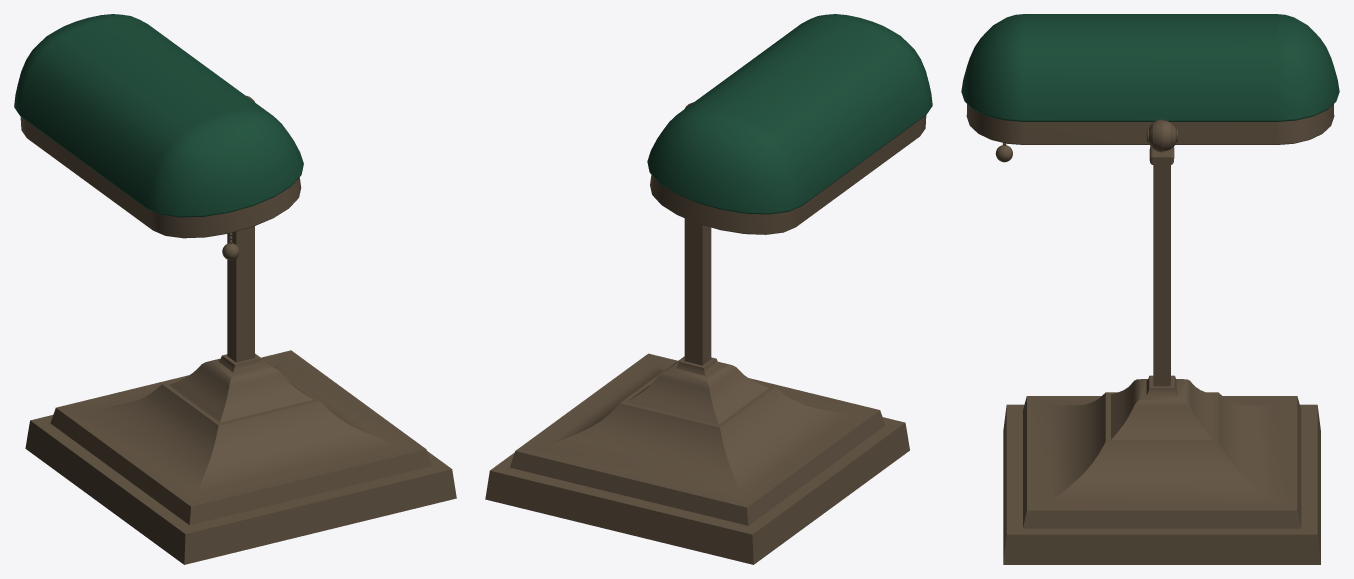
Rendered from SM_DeskLamp.fbx.
3 renders of one model, left to right at view 1: azimuth 30°, elevation 25°; view 2: azimuth 150°, elevation 25°; view 3: azimuth 270°, elevation 25°, orthographic.
Parts seen in each view (by area): view 1: pCylinder171; view 2: pCylinder171; view 3: pCylinder171.
Boxes of the visible parts, x1,y1,x2,y2 form: pCylinder171: [14, 14, 456, 564]; pCylinder171: [485, 14, 932, 564]; pCylinder171: [961, 14, 1339, 564].
Size of the model in its own units: 25.59 by 35.13 by 27.93.
